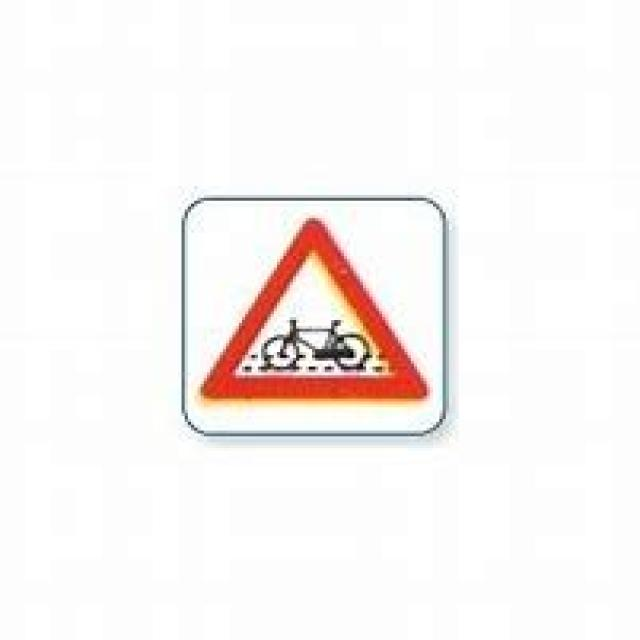CYCLE_CROSSING: (197, 210, 431, 414)
